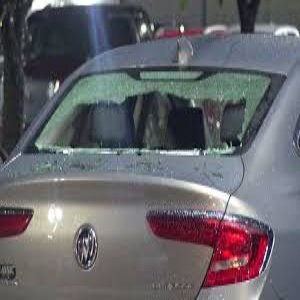rear_windshield_glass: (64, 74, 257, 147)
